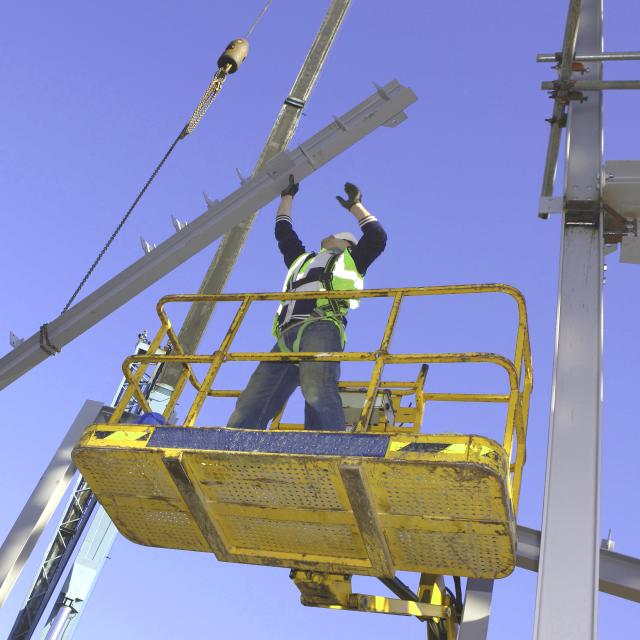hand_glove: (329, 181, 368, 216), (279, 170, 305, 200)
head_helmet: (322, 229, 360, 244)
person: (222, 177, 385, 427)
vest: (284, 246, 362, 318)
